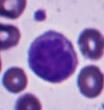M: (27, 30, 78, 84)
